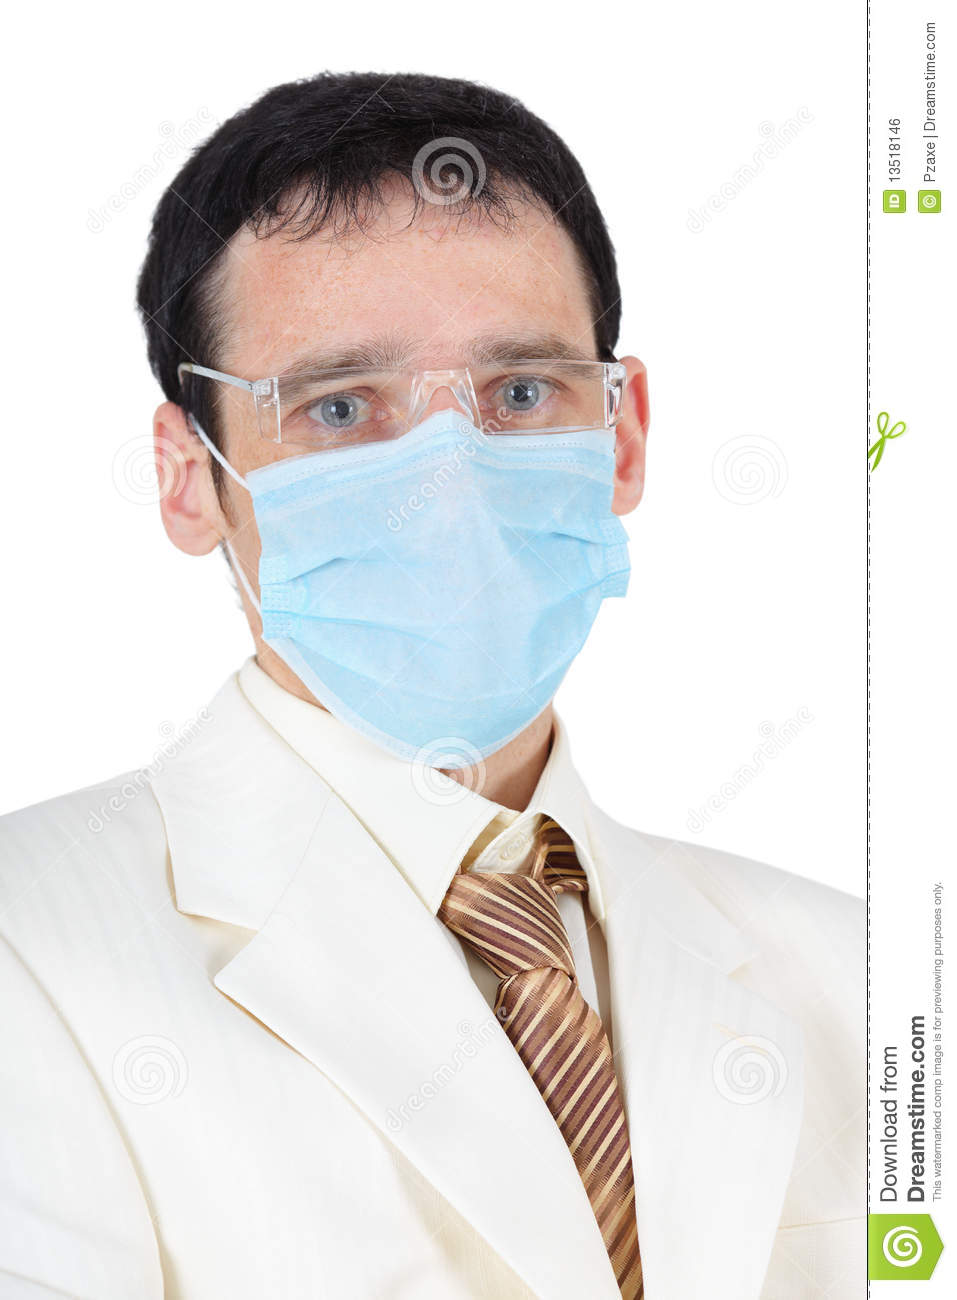mask: (238, 420, 631, 774)
